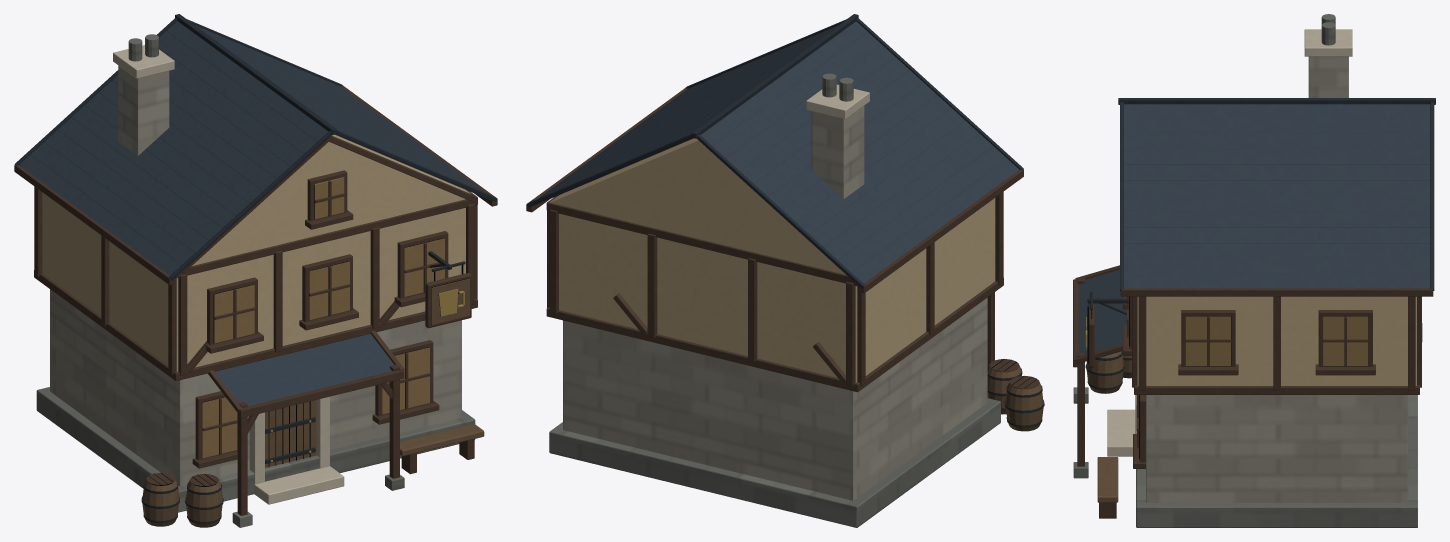
Rendered from Tavern.fbx.
The picture shows the model from 3 angles, left to right: view 1: azimuth 30°, elevation 25°; view 2: azimuth 150°, elevation 25°; view 3: azimuth 270°, elevation 25°; orthographic projection. The views are drawn at different scales.
Visible parts, largest first — view 1: Tavern.001; view 2: Tavern.001; view 3: Tavern.001.
Part boxes in pixels (x1,y1,x2,y2): Tavern.001: [14, 14, 497, 527]; Tavern.001: [526, 14, 1044, 527]; Tavern.001: [1073, 14, 1435, 527].
Size of the model in its own units: 9.29 by 9.88 by 8.3.
